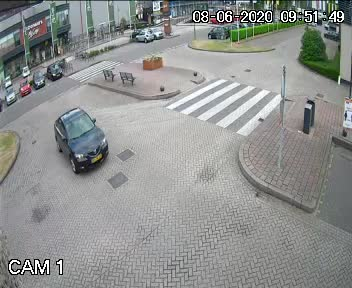car: (42, 105, 114, 177), (204, 21, 231, 41), (129, 29, 152, 43)
